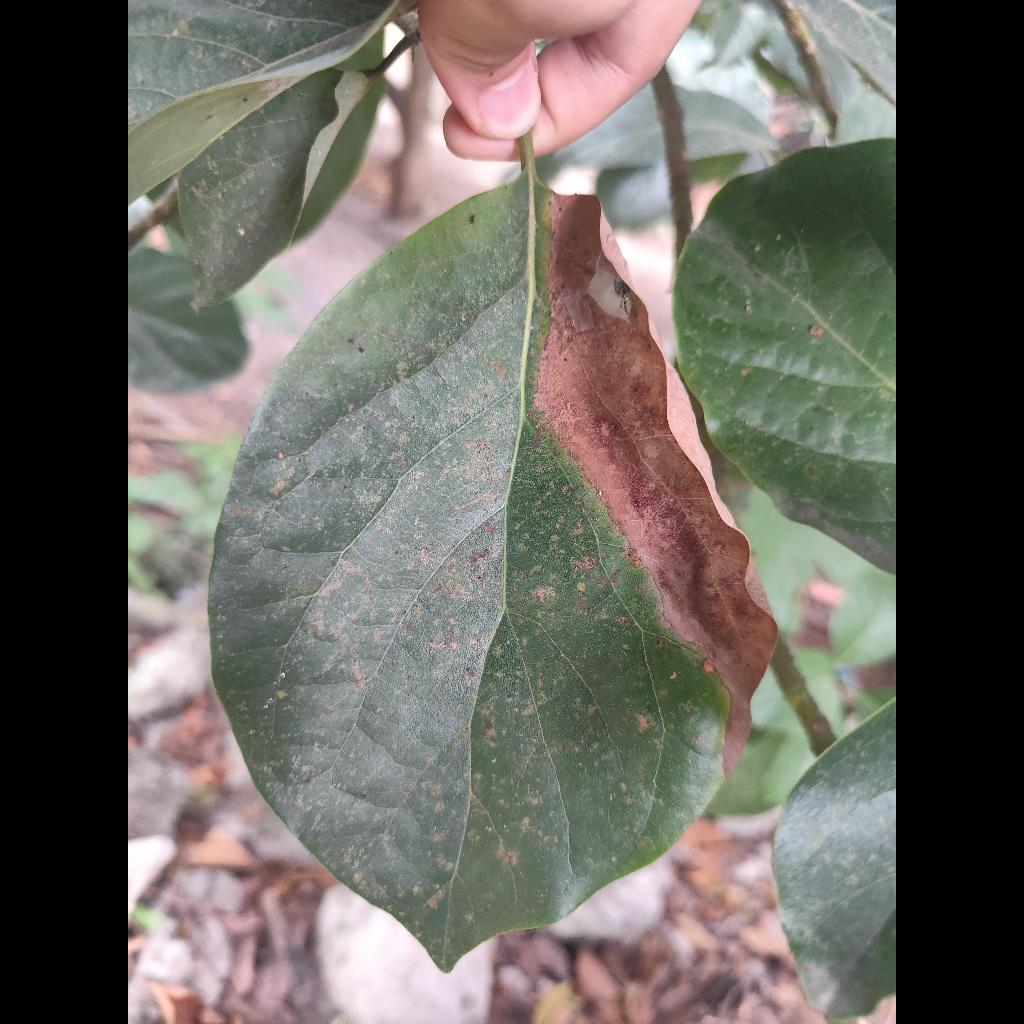antracnosis_hoja: (208, 169, 777, 970)
